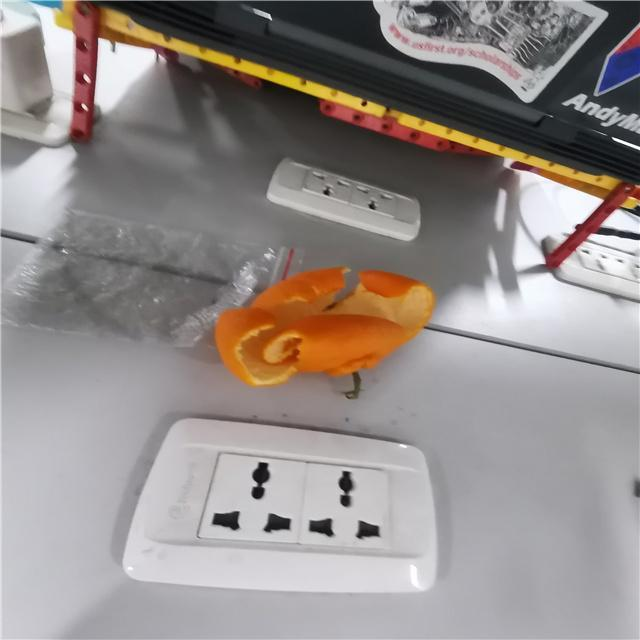orange-peel: (213, 264, 435, 387)
